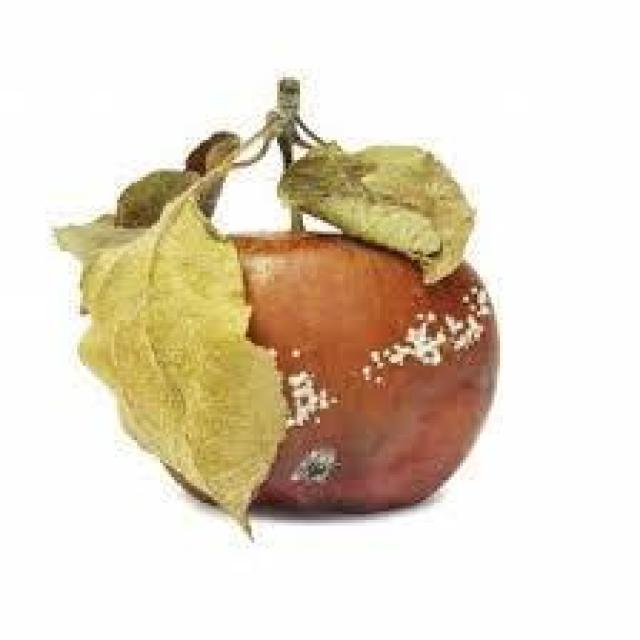maca: (51, 74, 500, 532)
